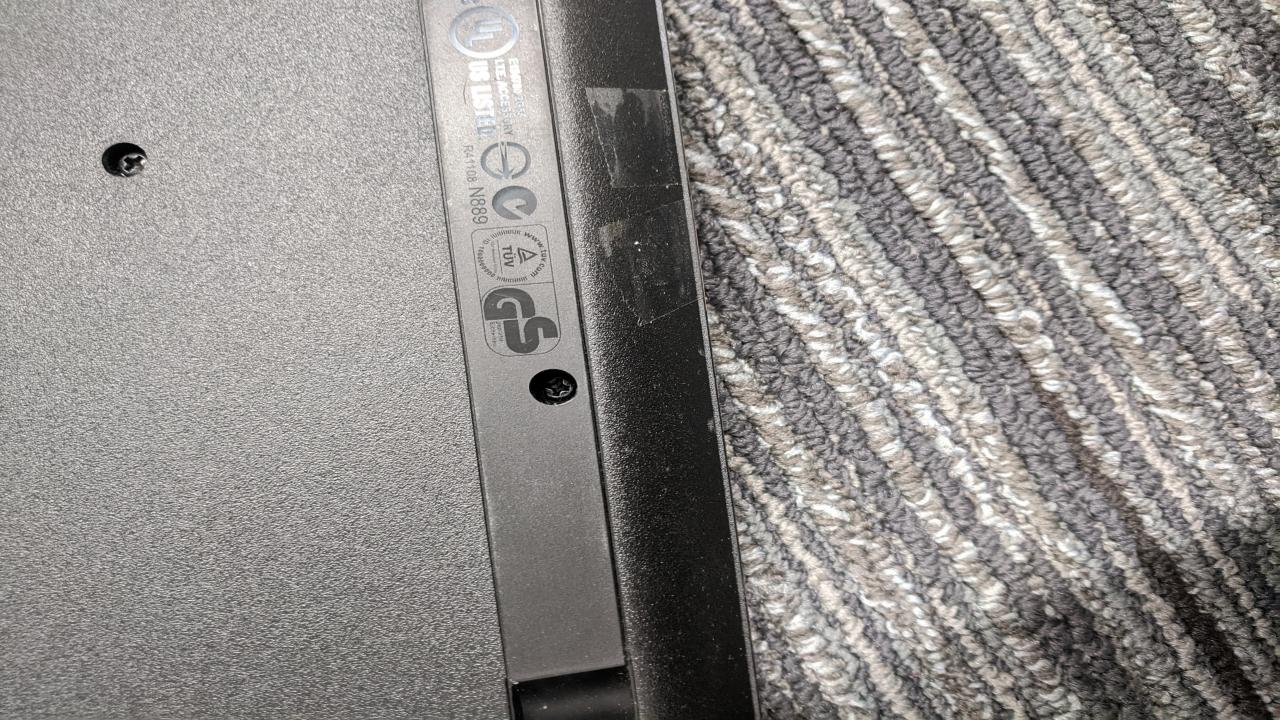CRS: (536, 372, 576, 403), (114, 147, 150, 176)
